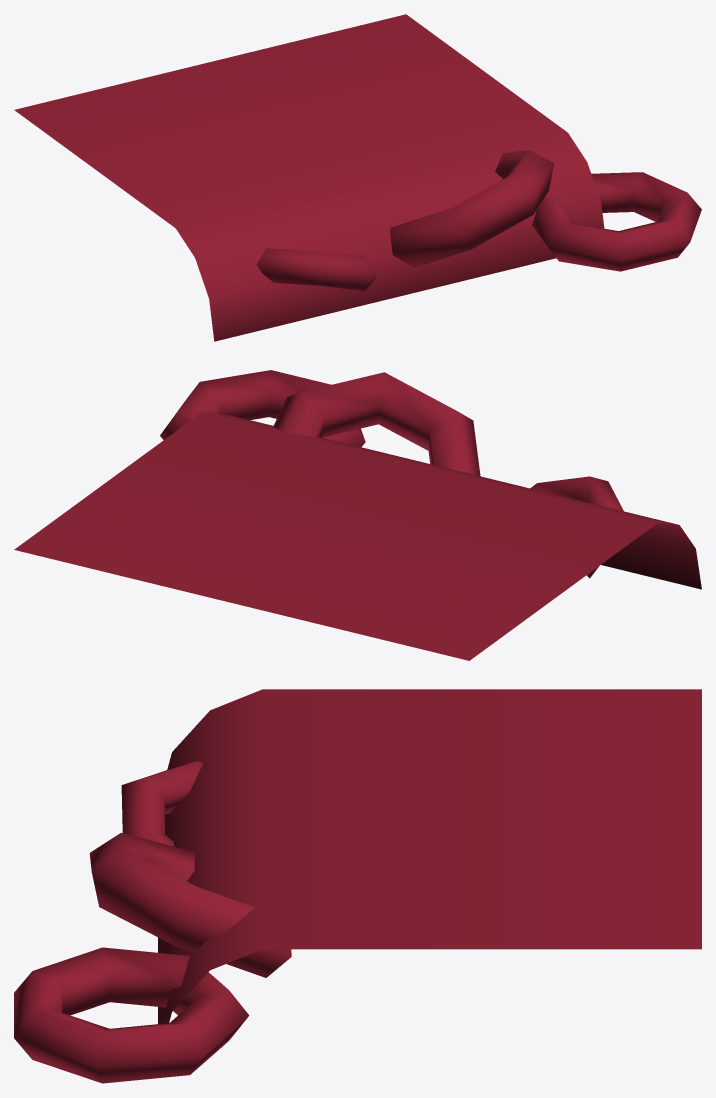
The model's file is Surface_PlatformShirt00.fbx.
3 views of the same model, one above another, from view 1: azimuth 30°, elevation 25°; view 2: azimuth 150°, elevation 25°; view 3: azimuth 270°, elevation 25° (orthographic). The views are drawn at different scales.
Parts seen in each view (by area): view 1: Surface_PlatformShirt00; view 2: Surface_PlatformShirt00; view 3: Surface_PlatformShirt00.
Part boxes in pixels (x1,y1,x2,y2): Surface_PlatformShirt00: [14, 14, 701, 341]; Surface_PlatformShirt00: [14, 370, 701, 660]; Surface_PlatformShirt00: [14, 689, 701, 1083].
Bounding box in the file's own units: 2375 × 580 × 2237.
